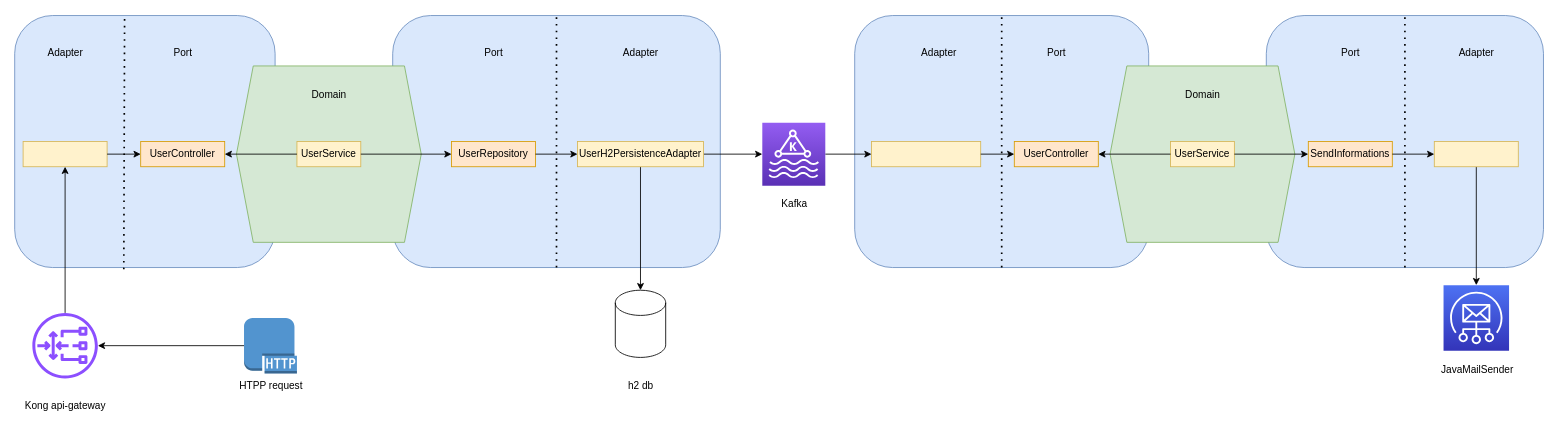
Some shapes in this 1558 by 433 pixel diagram are drawn without their labels. The shapes that lost their labels are listed below. From the top down, each one's centre as x and y in pixels, then its label:
At point (64, 154): "UserRestAdapter".
At point (926, 154): "ConsumerUserAdapter".
At point (1475, 154): "EmailService".
At point (640, 323): "DB".
